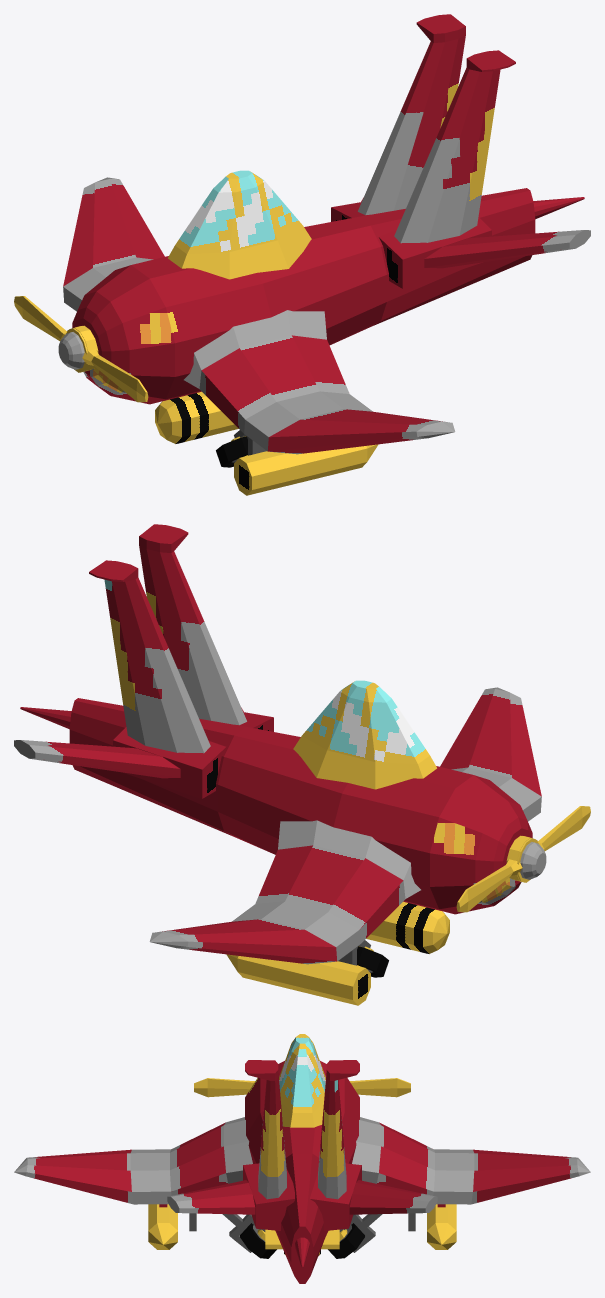
File: Aero.glb
3 views of the same model, one above another, from view 1: azimuth 30°, elevation 25°; view 2: azimuth 150°, elevation 25°; view 3: azimuth 270°, elevation 25° (orthographic). The views are drawn at different scales.
Visible parts, largest first — view 1: Corpo, Bomba, Helice; view 2: Corpo, Bomba, Helice; view 3: Corpo, Helice, Bomba.
Boxes of the visible parts, x1=… form: Corpo: x1=58, y1=14, x2=590, y2=495; Bomba: x1=155, y1=391, x2=238, y2=443; Helice: x1=14, y1=296, x2=148, y2=402; Corpo: x1=14, y1=524, x2=546, y2=1005; Bomba: x1=366, y1=901, x2=449, y2=953; Helice: x1=456, y1=806, x2=590, y2=912; Corpo: x1=14, y1=1034, x2=590, y2=1283; Helice: x1=194, y1=1078, x2=410, y2=1097; Bomba: x1=265, y1=1229, x2=339, y2=1255.
Size of the model in its own units: 1.92 by 1.23 by 2.22.
3 materials, 3 textured.
